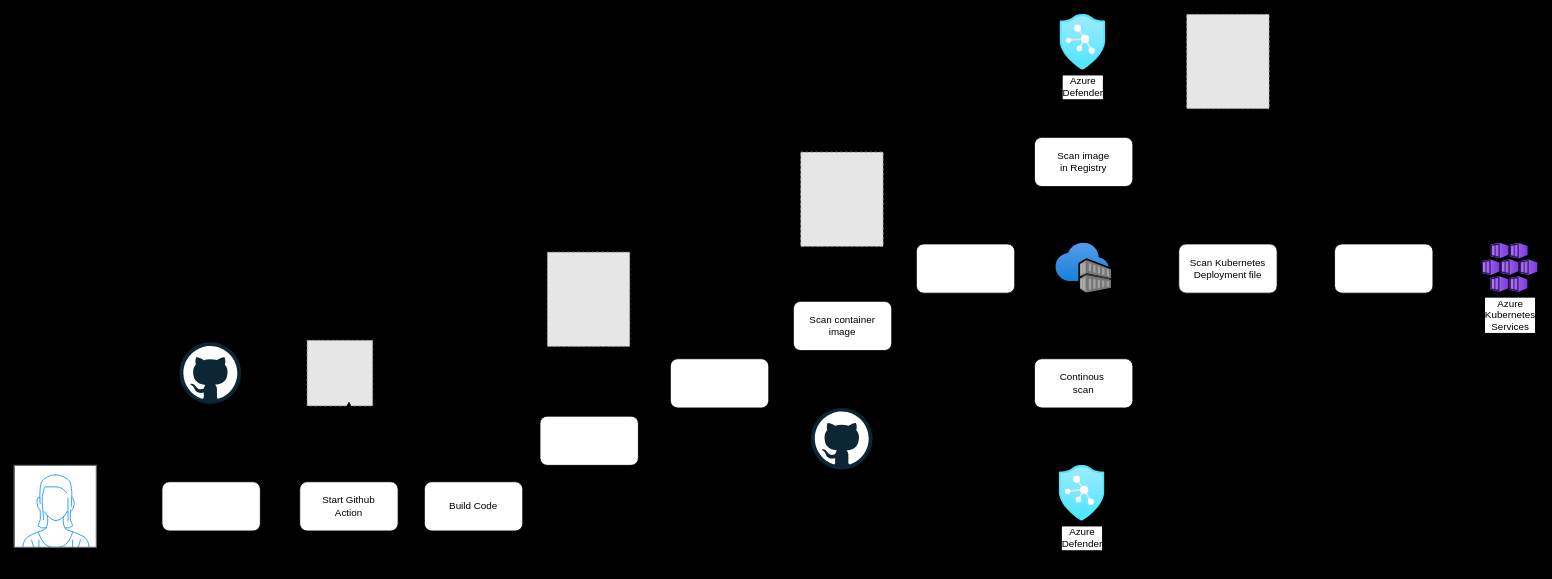
Image size: 1552x579. Some labels were removed from this diagram. Grey dashed boxes stand in for pictures. The shapes that lost their labels are listed below. From the top down, each one's centre as x and y in pixels, then its label:
At (965,268): "Push Image into container registry".
At (1383,268): "Deploy into Kubernetes".
At (719,383): "Build container image".
At (588,440): "Scan Code".
At (210,506): "Commit / Push Code".
